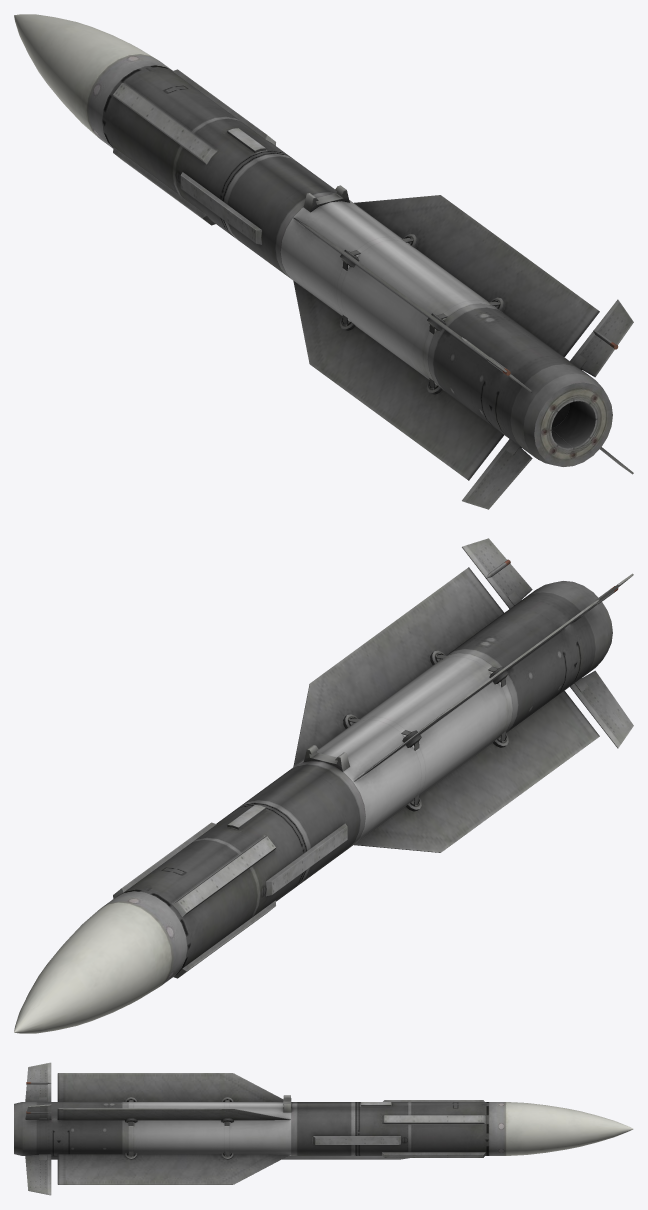
The model's file is aam_r33.glb.
3 views of the same model, one above another, from view 1: azimuth 30°, elevation 25°; view 2: azimuth 150°, elevation 25°; view 3: azimuth 270°, elevation 25° (orthographic). The views are drawn at different scales.
Parts seen in each view (by area): view 1: body|w_laam_r0-Mat; view 2: body|w_laam_r0-Mat; view 3: body|w_laam_r0-Mat.
Part boxes in pixels (box(x1,y1,x2,y2)): body|w_laam_r0-Mat: box(14, 14, 633, 509); body|w_laam_r0-Mat: box(14, 538, 633, 1033); body|w_laam_r0-Mat: box(14, 1062, 633, 1195).
Size of the model in its own units: 0.6795 by 0.6795 by 4.2.
Materials: 1 (1 with a texture image).
